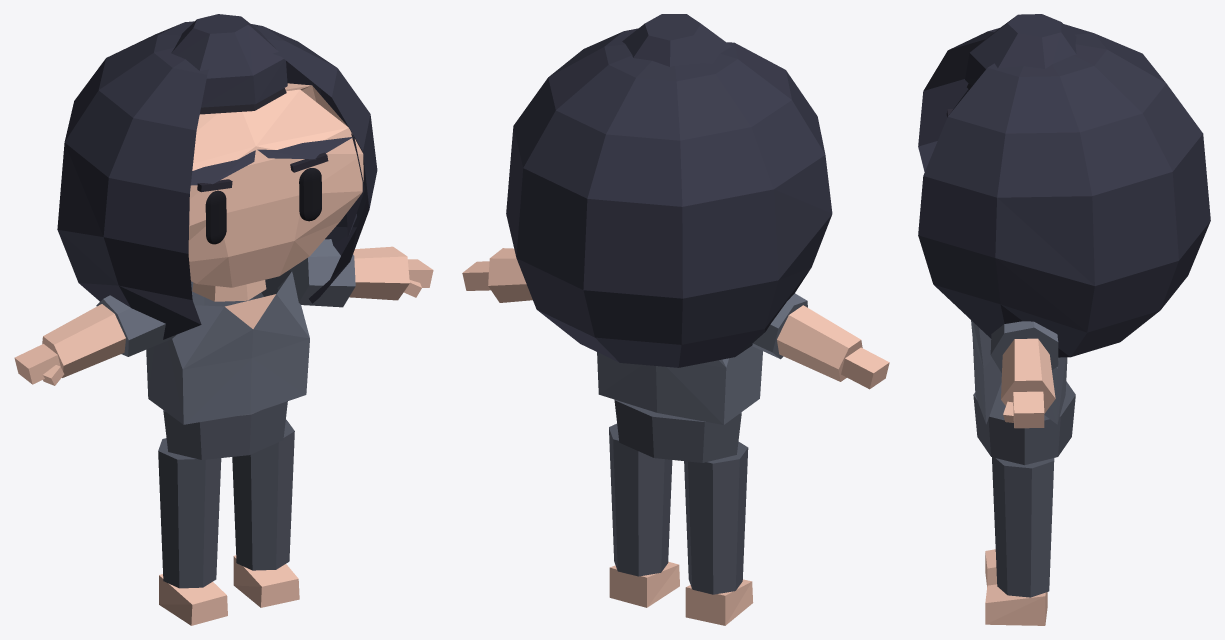
File: girl.glb
The picture shows the model from 3 angles, left to right: view 1: azimuth 30°, elevation 25°; view 2: azimuth 150°, elevation 25°; view 3: azimuth 270°, elevation 25°; orthographic projection.
Parts seen in each view (by area): view 1: HairGroup, HeadGroup, TorsoGroup, ChibiGirl, LeftLeg, RightLeg, RightArm, LeftArm, LeftHand, RightHand; view 2: HairGroup, ChibiGirl, TorsoGroup, LeftLeg, RightLeg, LeftArm, RightArm, LeftHand, RightHand; view 3: HairGroup, RightLeg, ChibiGirl, RightArm, TorsoGroup, RightHand.
Part boxes in pixels (left/top/right/bottom): HairGroup: left=57, top=14, right=377, bottom=339; HeadGroup: left=188, top=83, right=363, bottom=287; TorsoGroup: left=146, top=270, right=309, bottom=424; ChibiGirl: left=159, top=280, right=299, bottom=625; LeftLeg: left=158, top=438, right=221, bottom=588; RightLeg: left=232, top=419, right=294, bottom=570; RightArm: left=277, top=239, right=409, bottom=307; LeftArm: left=42, top=295, right=175, bottom=377; LeftHand: left=14, top=344, right=64, bottom=385; RightHand: left=403, top=259, right=433, bottom=297; HairGroup: left=506, top=14, right=832, bottom=367; ChibiGirl: left=609, top=399, right=753, bottom=625; TorsoGroup: left=597, top=346, right=762, bottom=424; LeftLeg: left=684, top=441, right=748, bottom=594; RightLeg: left=609, top=423, right=672, bottom=576; LeftArm: left=752, top=293, right=862, bottom=381; RightArm: left=488, top=248, right=532, bottom=302; LeftHand: left=841, top=347, right=889, bottom=389; RightHand: left=462, top=261, right=490, bottom=290; HairGroup: left=918, top=14, right=1210, bottom=357; RightLeg: left=992, top=457, right=1054, bottom=597; ChibiGirl: left=973, top=381, right=1075, bottom=625; RightArm: left=990, top=321, right=1058, bottom=413; TorsoGroup: left=971, top=320, right=1067, bottom=424; RightHand: left=1003, top=391, right=1044, bottom=428.
Size of the model in its own units: 1.72 by 2.32 by 1.07.
